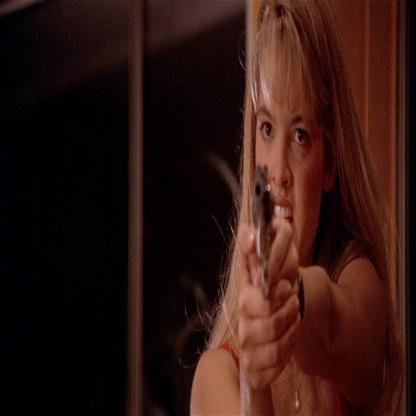gun: (248, 166, 272, 242)
